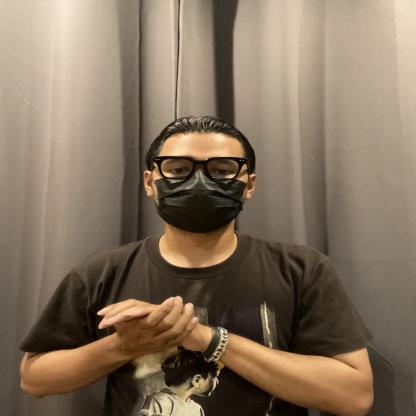Love: (58, 263, 272, 376)
